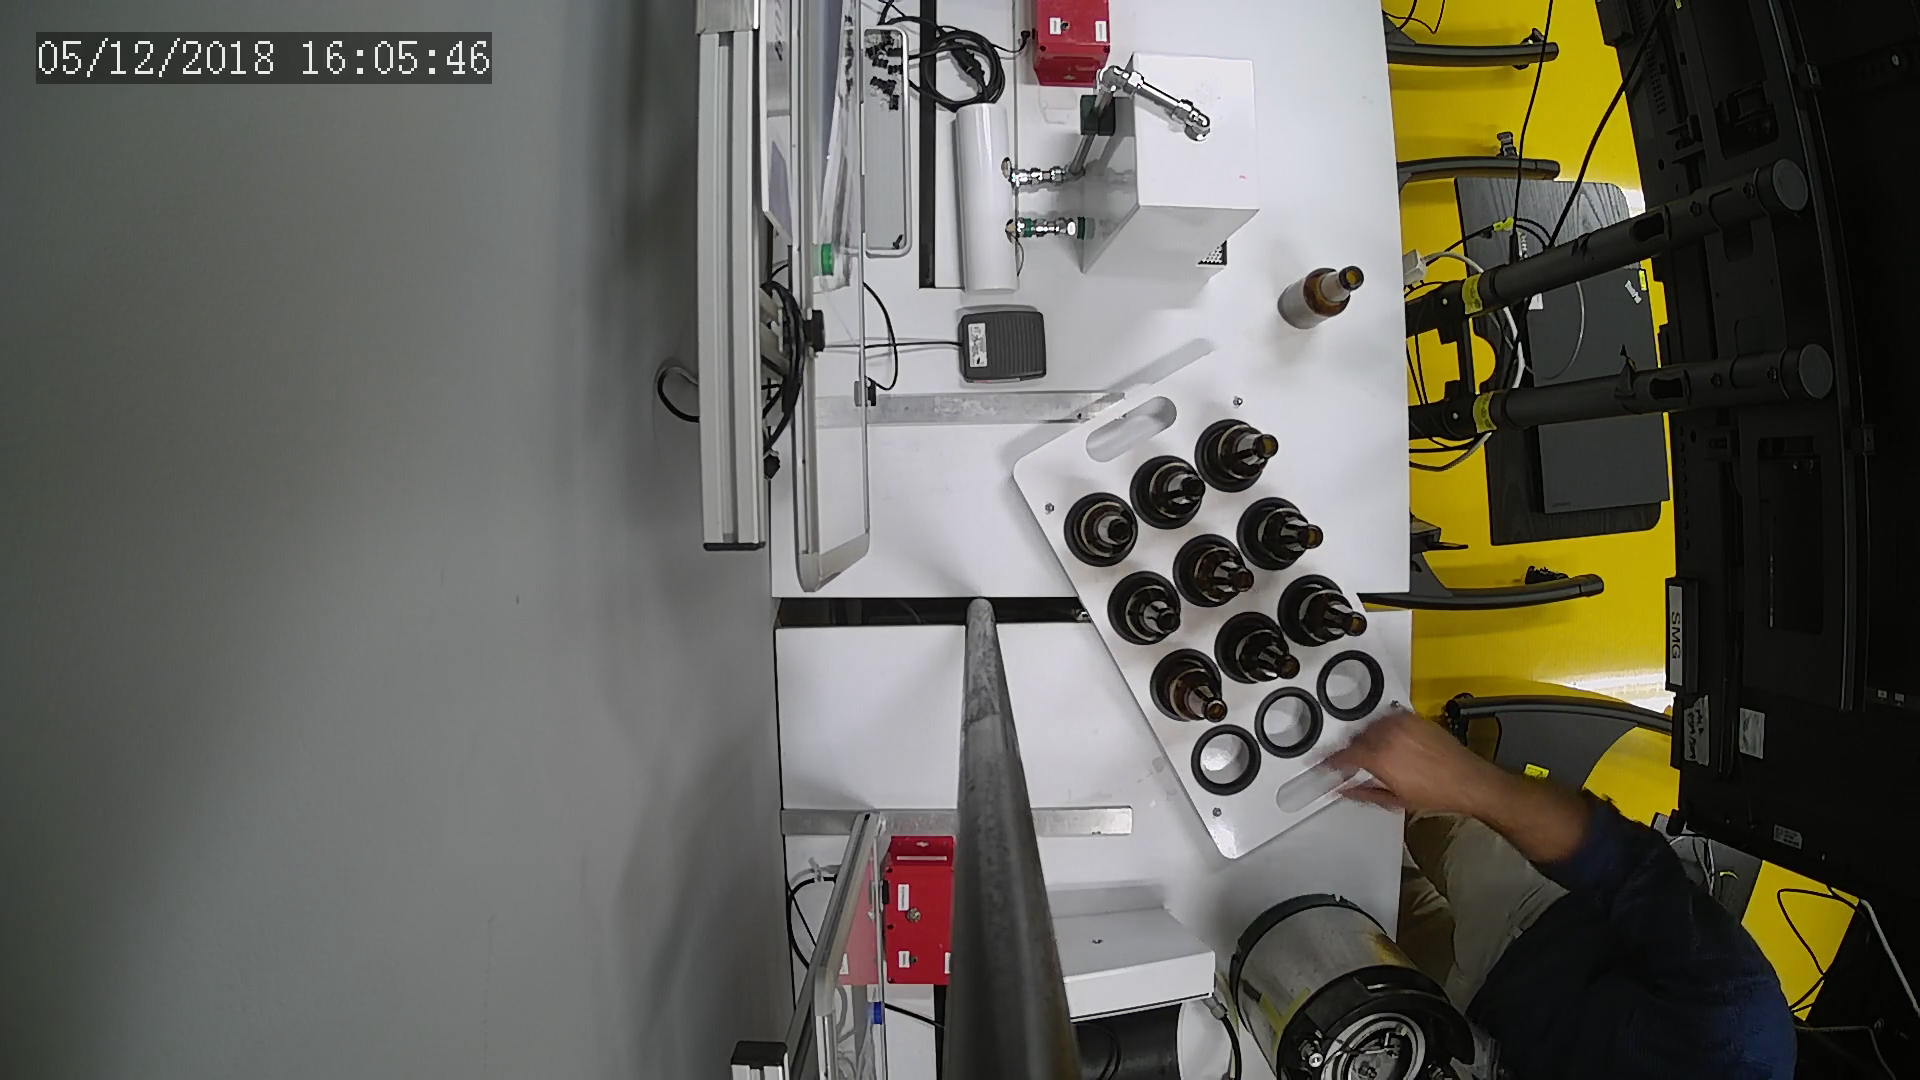filled_bottle: (1208, 609, 1313, 690), (1149, 645, 1236, 738), (1276, 574, 1374, 657), (1106, 570, 1193, 653), (1199, 418, 1284, 498), (1237, 498, 1328, 574), (1127, 454, 1211, 534), (1176, 534, 1261, 613), (1065, 491, 1143, 572)
trolley: (1010, 347, 1433, 866)
unfilled_bottle: (1278, 262, 1366, 332)
